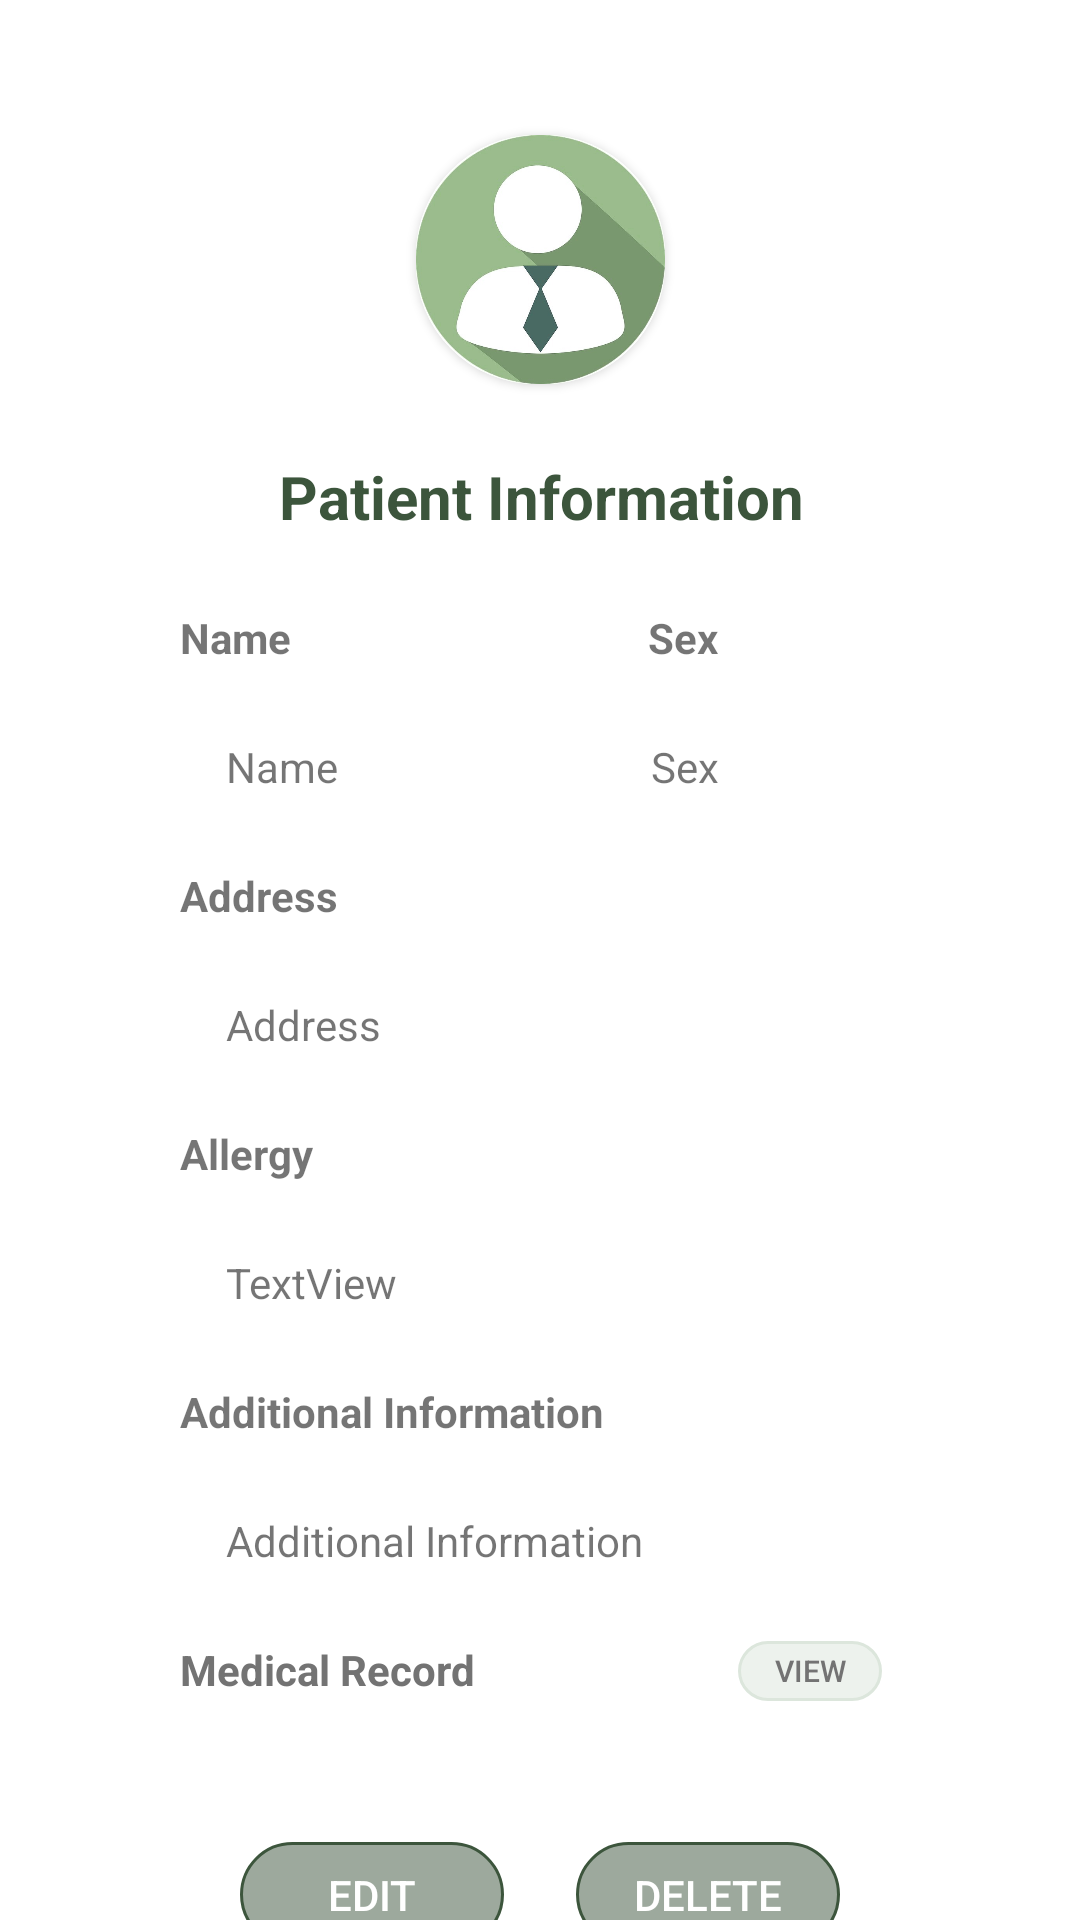

Screen size 1080 × 1920. Icon name, then its box in pixels as (x1, y1, x2, y2):
patiet: (416, 135, 665, 384)
